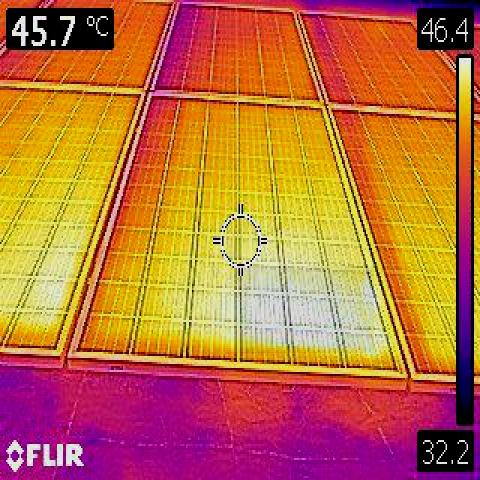fault: (238, 266, 374, 353)
